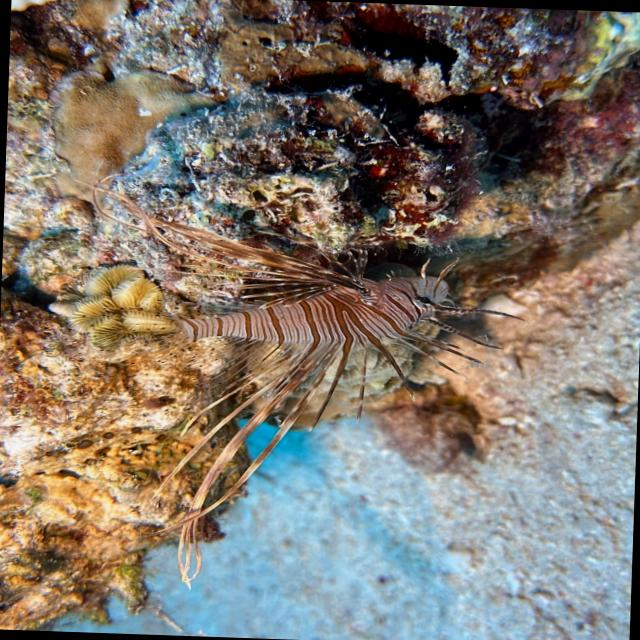Aslan Baligi: (68, 182, 524, 540)
